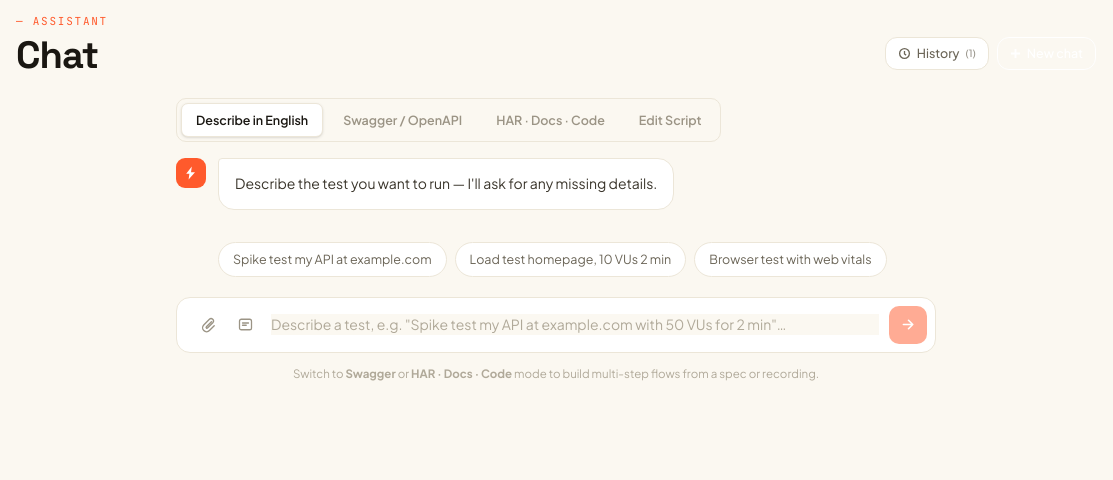
Test: ChatPage › re-syncs a stale pending/running status entry from a loaded history session
Click the button titled "Chat history": (937, 53) [885, 37, 989, 70]
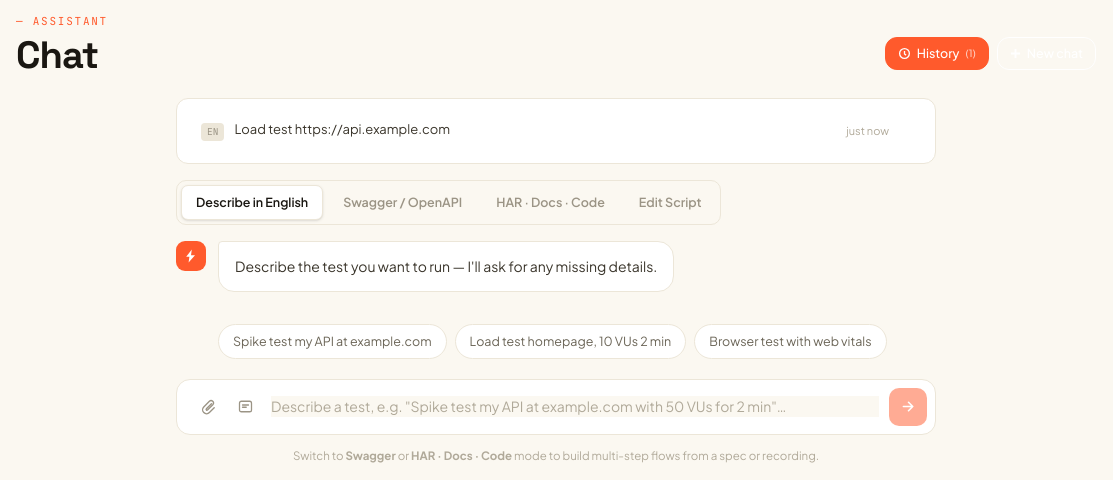
Expected: the text "Load test https://api.example.com" is shown
Click the text "Load test https://api.example.com": (342, 128) [234, 120, 450, 136]
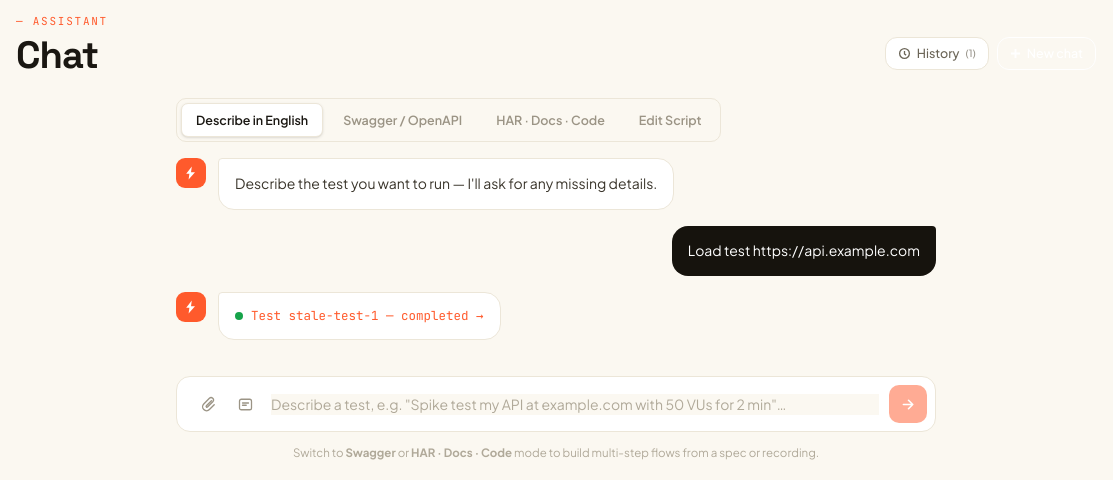
Expected: the link "Test stale-test-1 — completed →" is shown, [251, 307, 484, 325]
